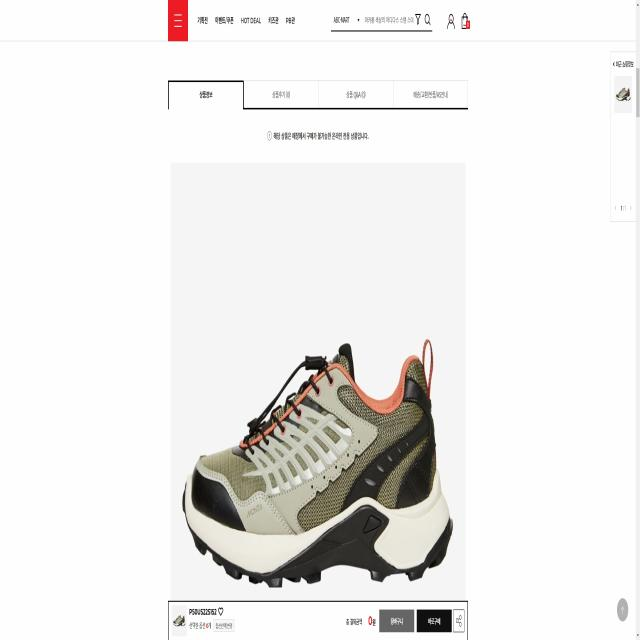search: (329, 7, 433, 35)
tab-bar: (166, 78, 470, 115)
